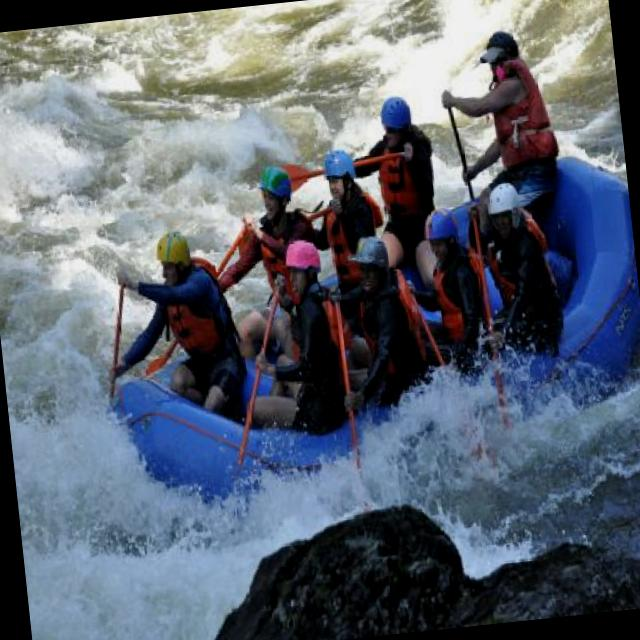Person: (78, 21, 602, 462)
